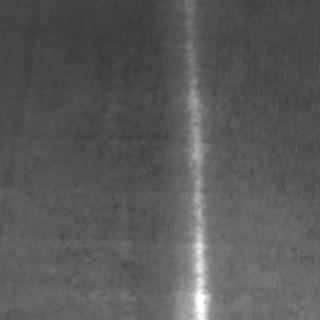scratches: (181, 2, 209, 314)
